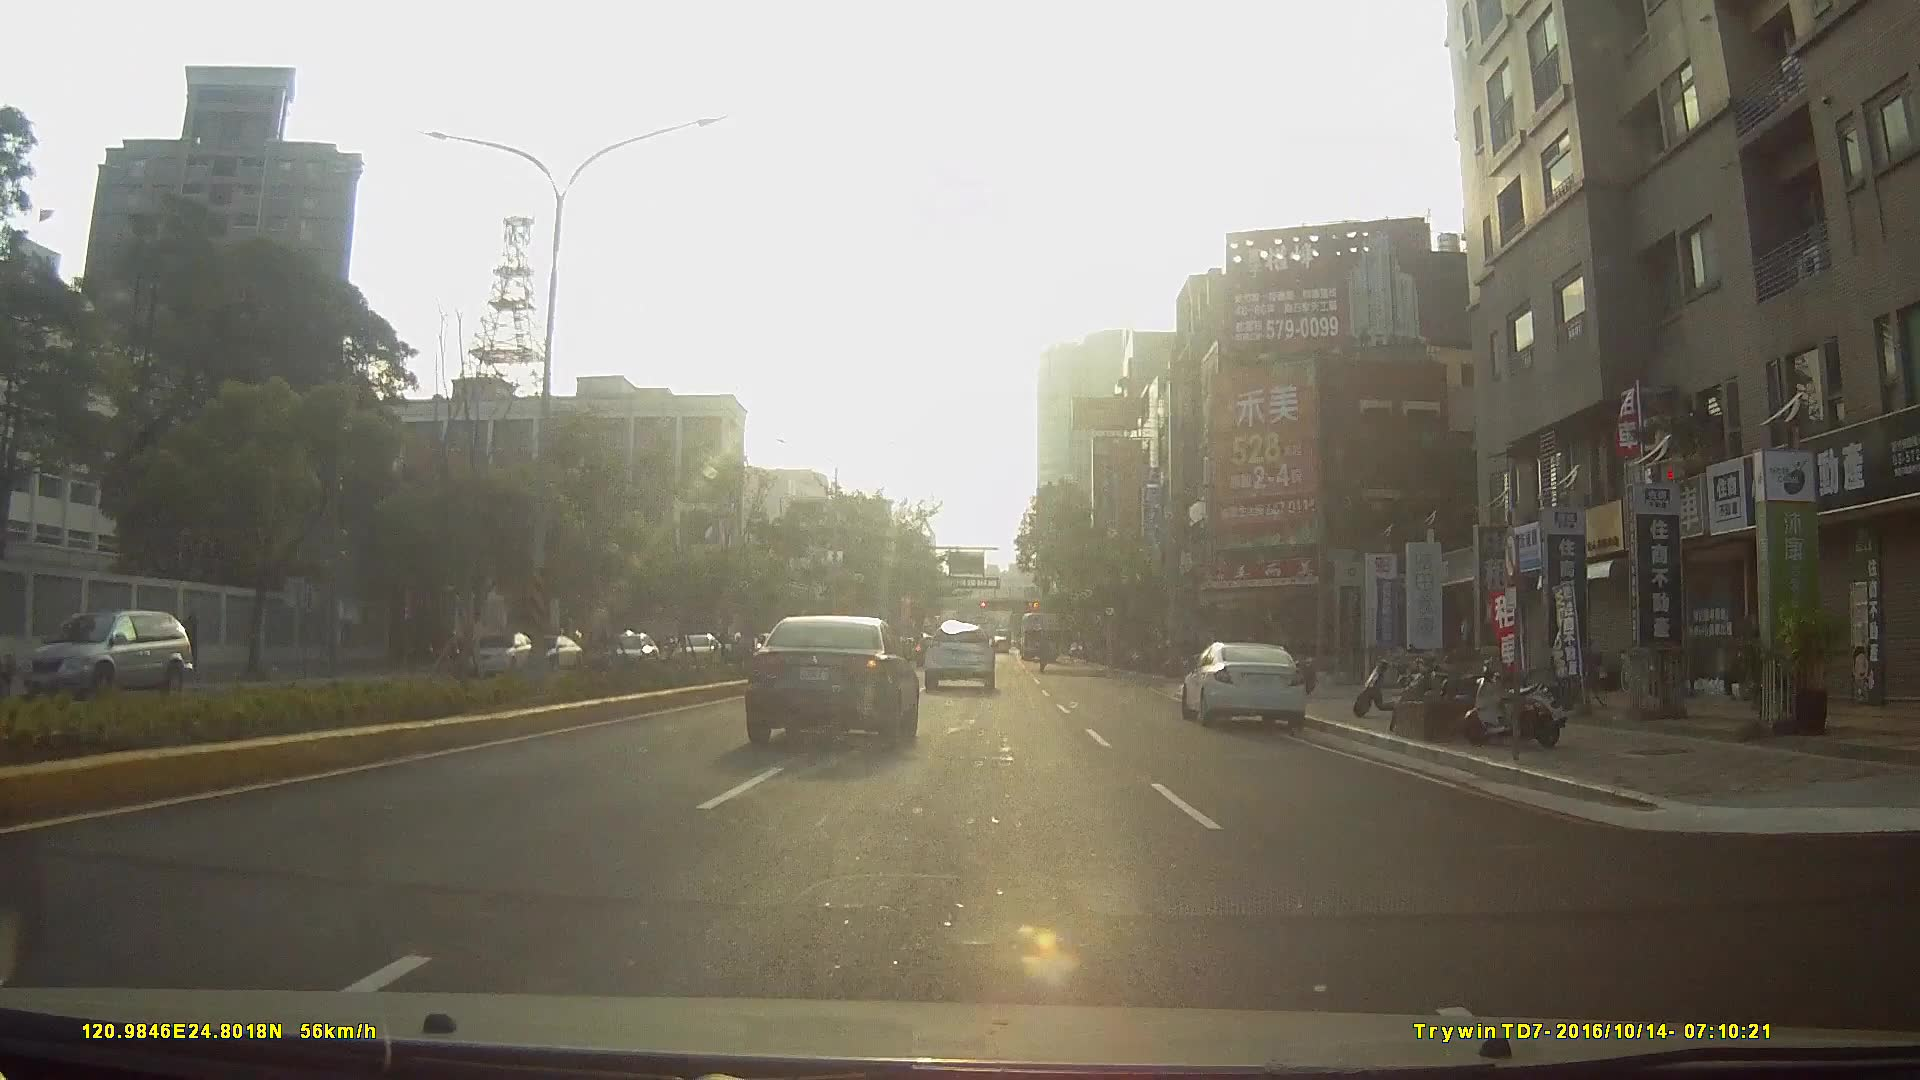pedestrian: (182, 609, 202, 672)
rider: (1, 611, 24, 717)
vehicle: (745, 610, 921, 745), (23, 605, 185, 705), (1182, 636, 1312, 728), (924, 616, 997, 688), (455, 628, 538, 675), (596, 630, 664, 681), (1016, 605, 1065, 658), (666, 633, 727, 671), (523, 631, 582, 666)
